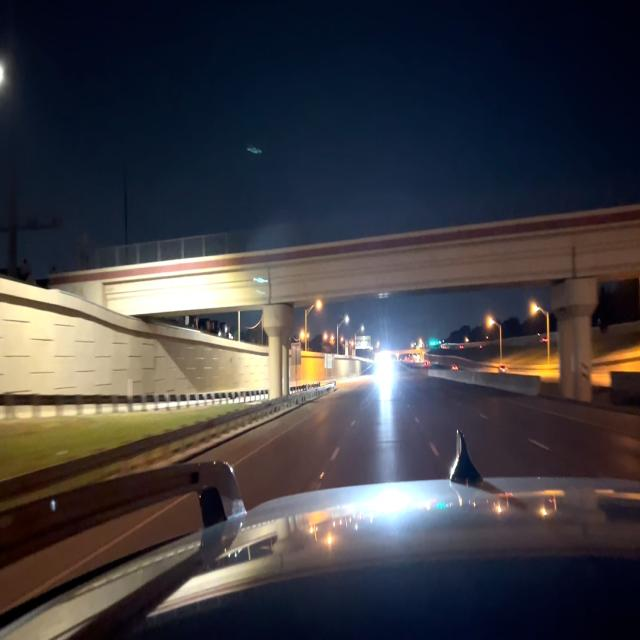back-of-sign: (291, 343, 301, 366)
